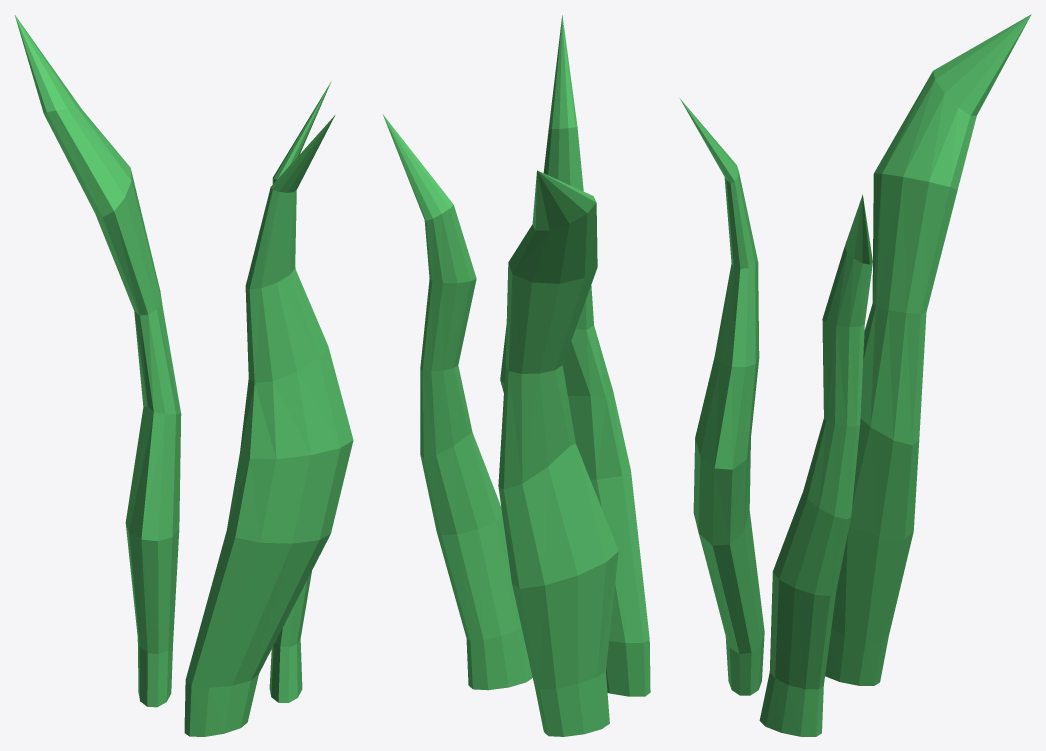
Rendered from seaweed-1.glb.
3 renders of one model, left to right at view 1: azimuth 30°, elevation 25°; view 2: azimuth 150°, elevation 25°; view 3: azimuth 270°, elevation 25°, orthographic.
Visible parts, largest first — view 1: seaweed-1; view 2: seaweed-1; view 3: seaweed-1.
Boxes of the visible parts, bbox=[...] form: seaweed-1: bbox=[15, 15, 353, 736]; seaweed-1: bbox=[382, 15, 650, 736]; seaweed-1: bbox=[680, 14, 1031, 736].
Size of the model in its own units: 5.55 by 13.39 by 6.72.
